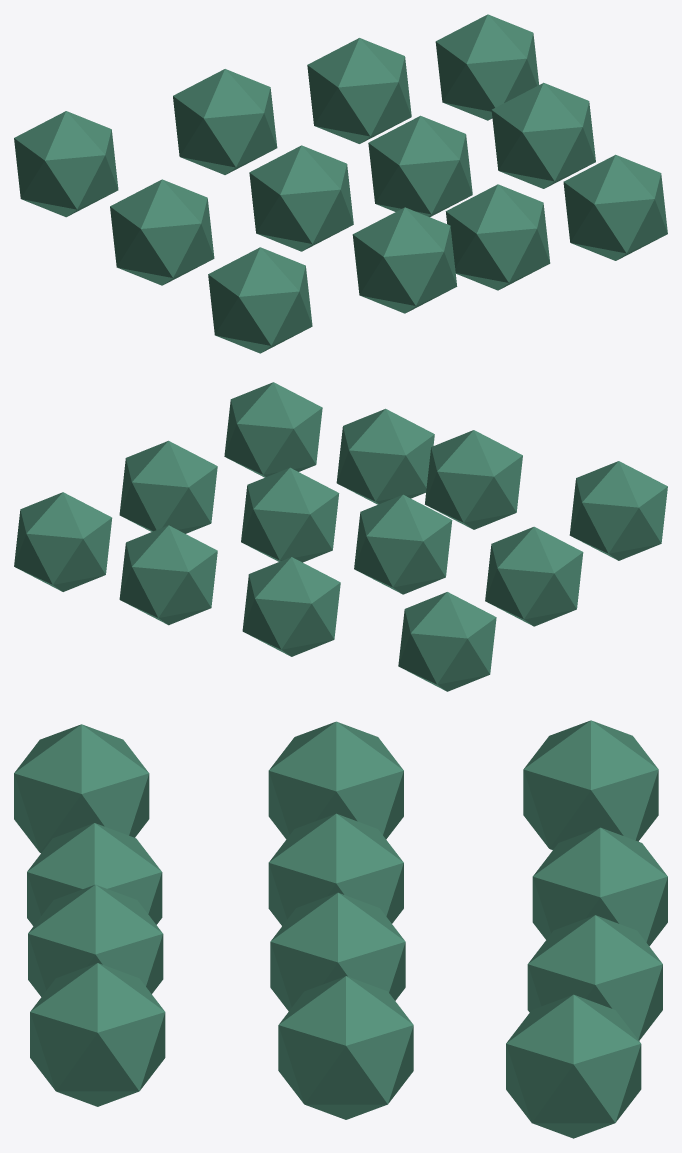
Rendered from Lettuce-1.fbx.
The picture shows the model from 3 angles, top to bottom: view 1: azimuth 30°, elevation 25°; view 2: azimuth 150°, elevation 25°; view 3: azimuth 270°, elevation 25°; orthographic projection. The views are drawn at different scales.
Visible parts, largest first — view 1: Lettuce-1; view 2: Lettuce-1; view 3: Lettuce-1.
Part boxes in pixels (bbox=[...]): Lettuce-1: bbox=[14, 14, 667, 353]; Lettuce-1: bbox=[14, 382, 667, 691]; Lettuce-1: bbox=[14, 720, 667, 1138].
Bounding box in the file's own units: 71.8 × 14.43 × 59.35.
